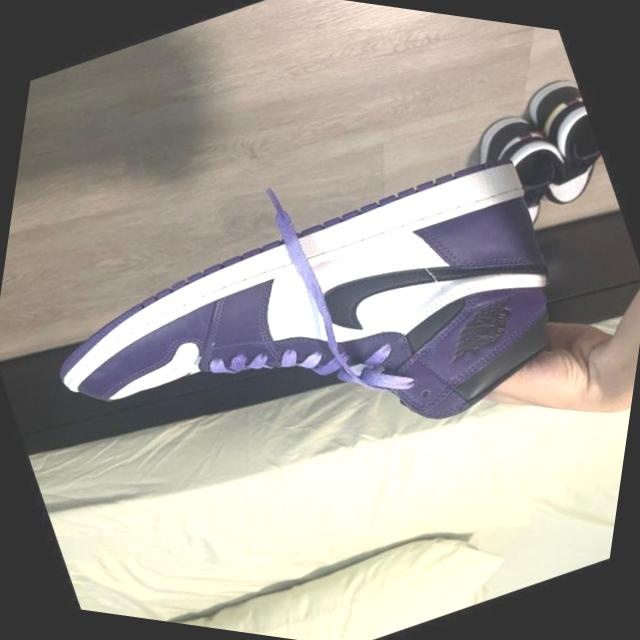nike_original_jordan: (1, 82, 624, 600)
